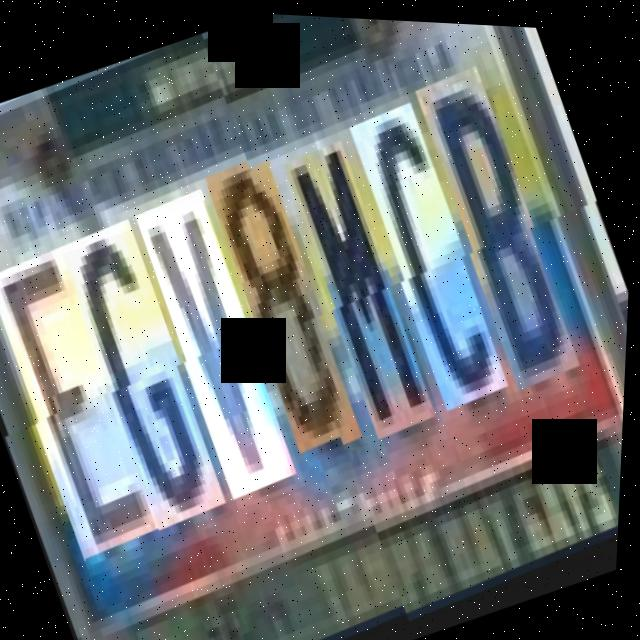8: (200, 158, 383, 462)
B: (406, 64, 600, 392)
C: (341, 100, 528, 412)
E: (0, 252, 180, 570)
G: (54, 224, 249, 540)
M: (275, 137, 455, 440)
V: (130, 194, 321, 508)
